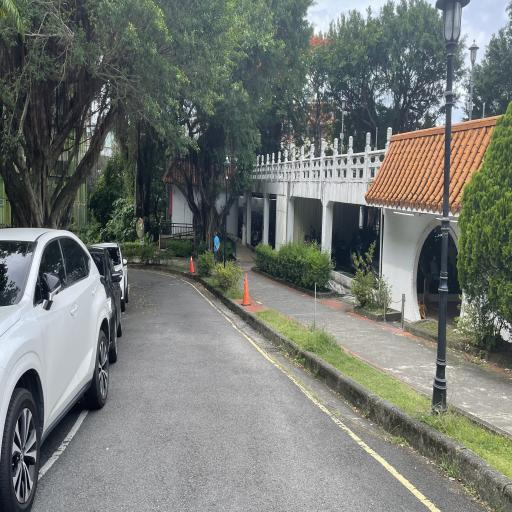car: (0, 210, 111, 512)
yellowline: (180, 286, 440, 512)
